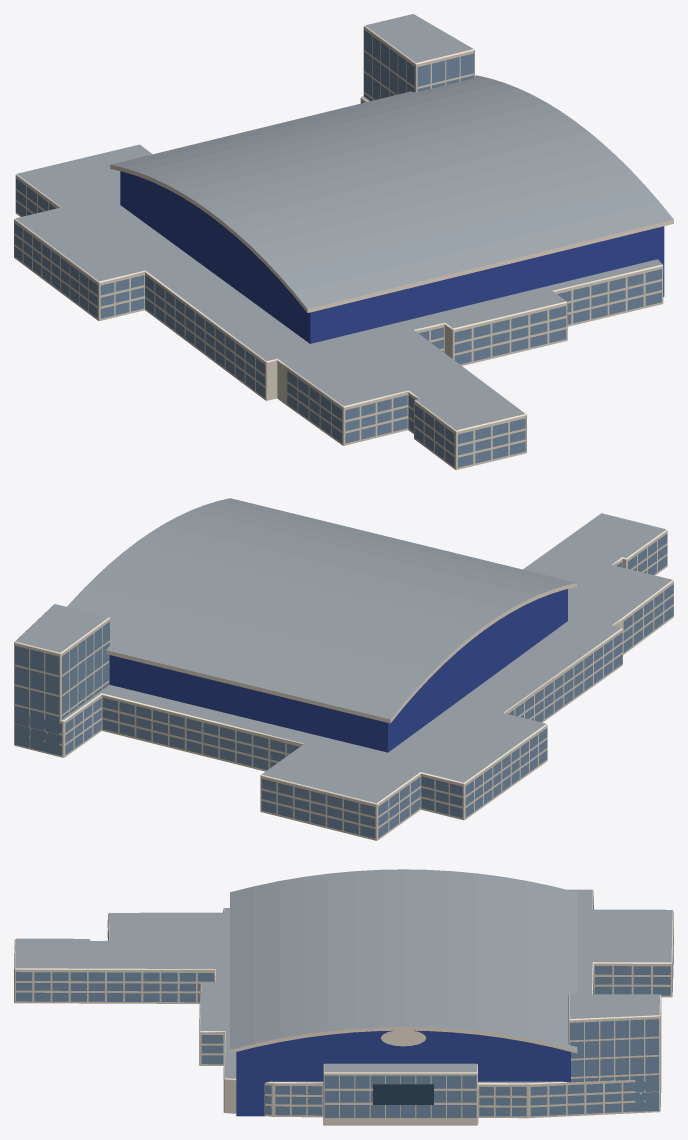
The model's file is dal-ford-center-the-star.glb.
The picture shows the model from 3 angles, top to bottom: view 1: azimuth 30°, elevation 25°; view 2: azimuth 150°, elevation 25°; view 3: azimuth 270°, elevation 25°; orthographic projection. The views are drawn at different scales.
Parts seen in each view (by area): view 1: Ford Center at The Star; view 2: Ford Center at The Star; view 3: Ford Center at The Star.
Boxes of the visible parts, <box> form: Ford Center at The Star: <box>14,14,673,469</box>; Ford Center at The Star: <box>14,498,673,840</box>; Ford Center at The Star: <box>14,869,673,1125</box>.
Size of the model in its own units: 189 by 42 by 260.
